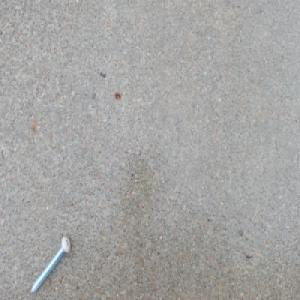Nail: (29, 232, 72, 294)
